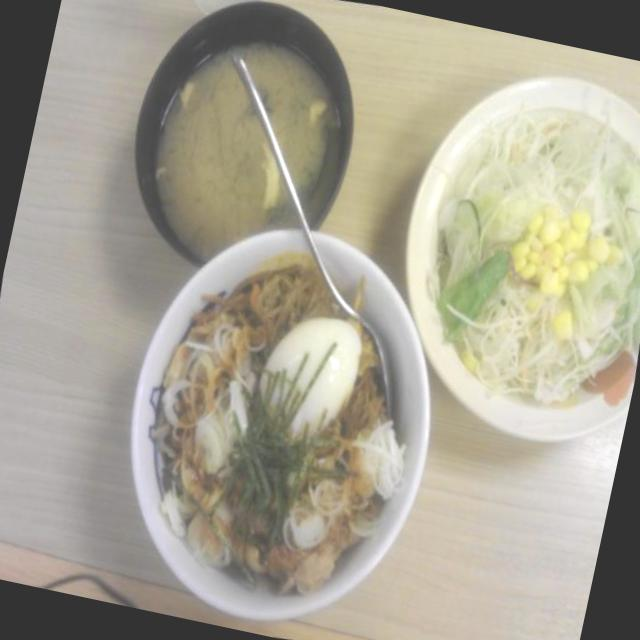Green Salad: (405, 72, 640, 419)
